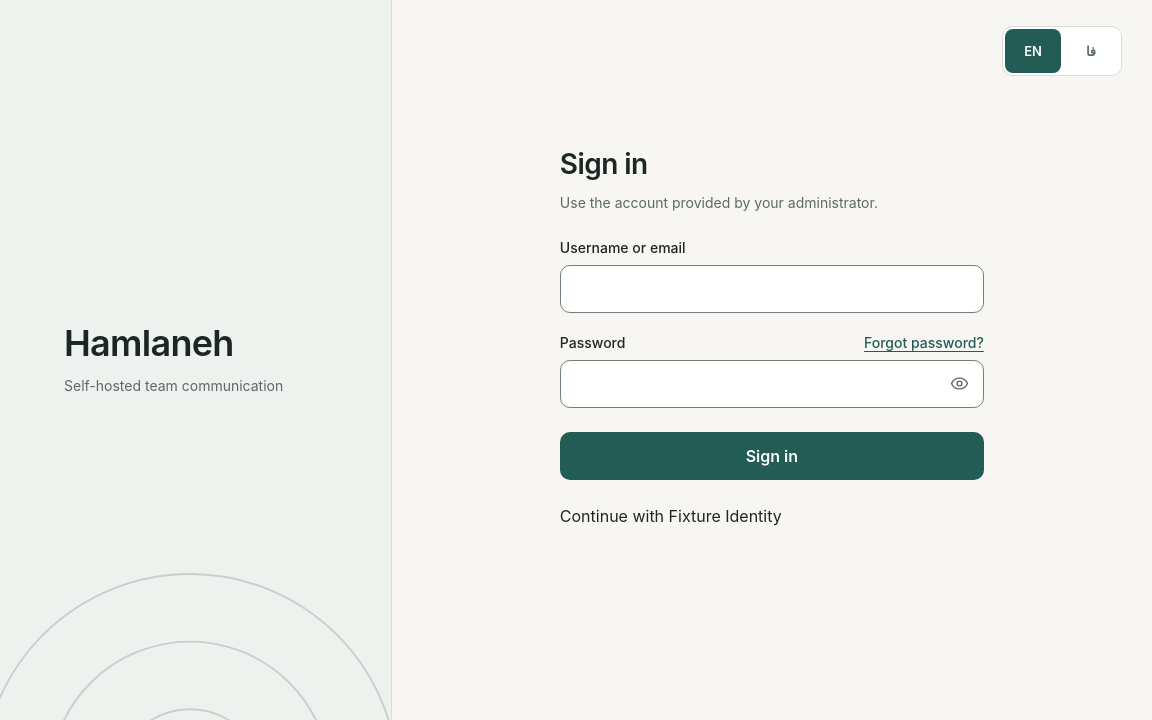
Test: settings panel › opens over the chat as a labelled dialog with a tab list, and Escape closes it
Expected: the heading "Sign in" is shown, [560,147,648,181]
Type "fixture.admin" into the field labelled "Username or email" at point(772, 289), box [560,265,984,313]
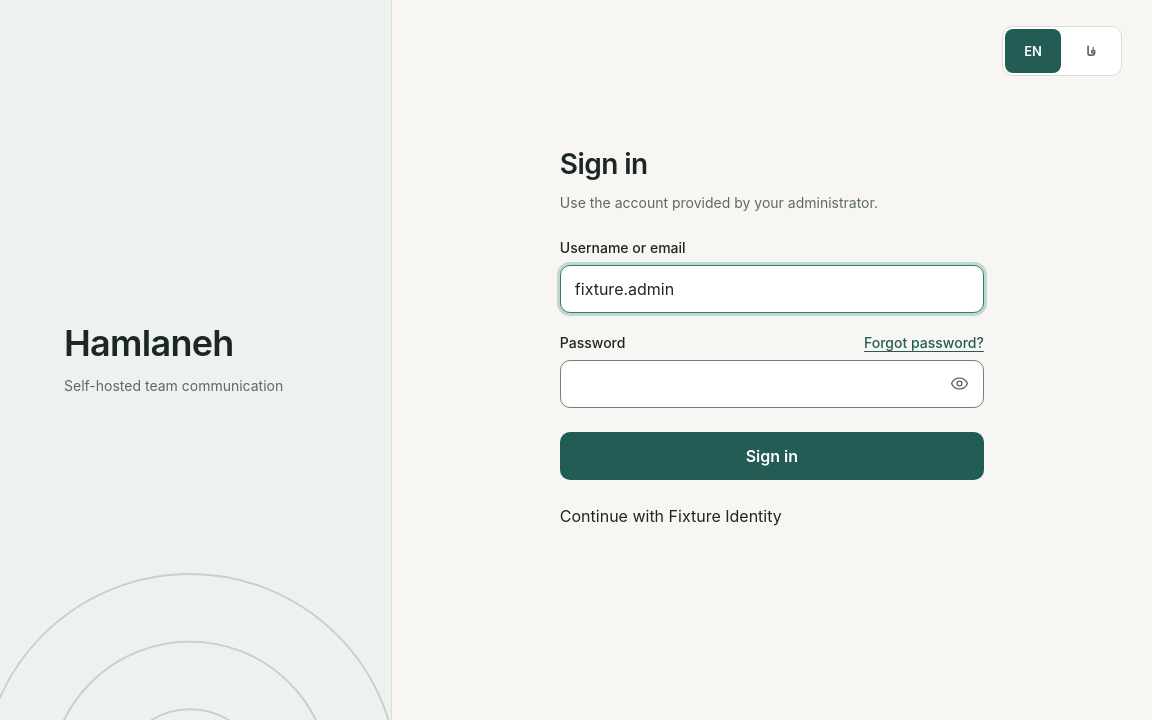
Type "fixture-password-only-for-mocks" into the password field labelled "Password" at point(772, 384), box [560,360,984,408]
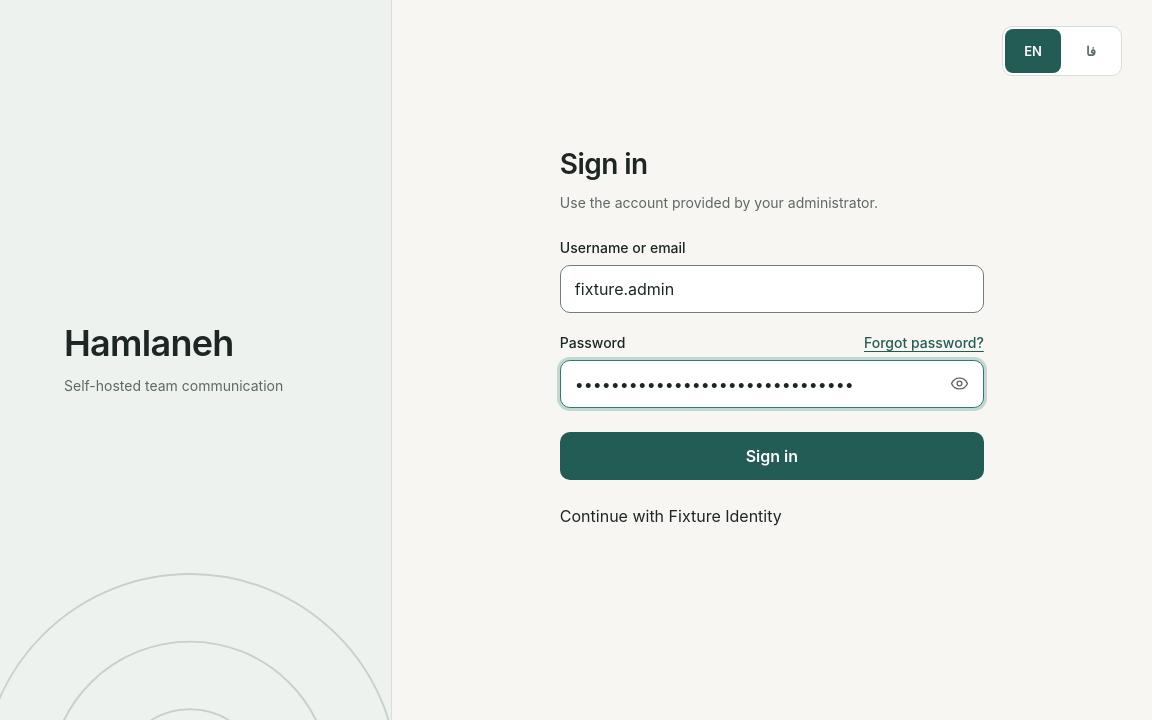
Click the button "Sign in" at point(772, 456), box [560,432,984,480]
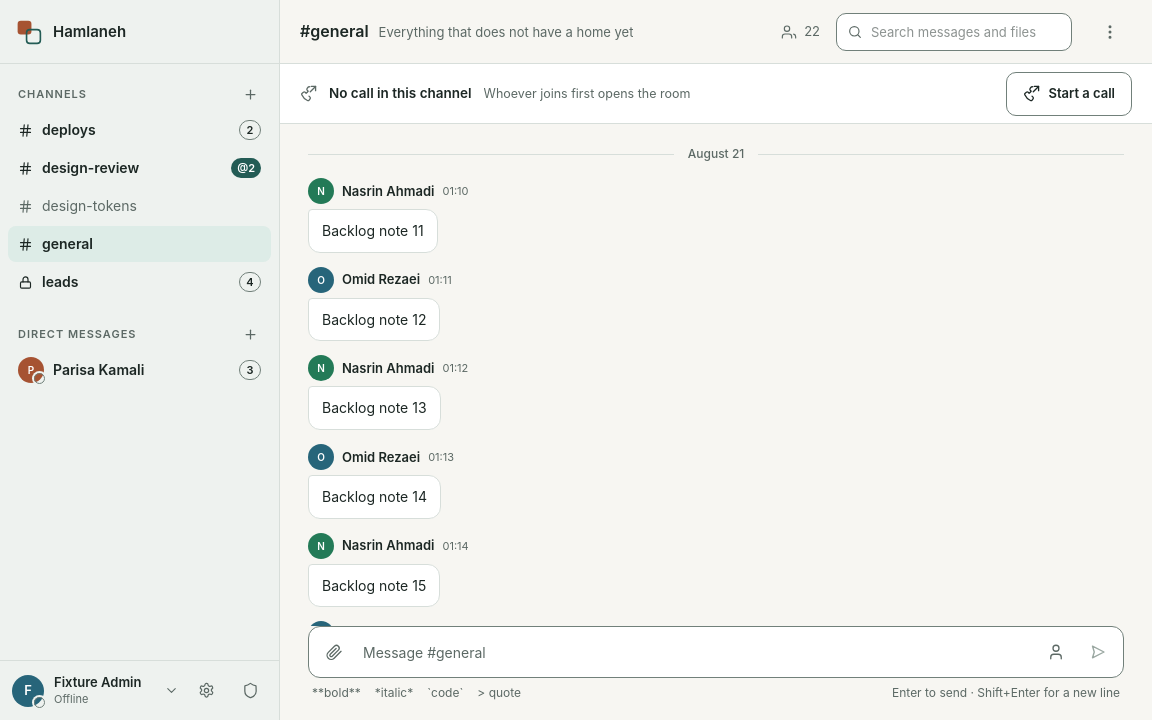
Expected: the navigation bar named "Conversations" is shown, [0,0,280,719]
Click the button named "Settings" at point(206, 690), box [189,674,223,708]
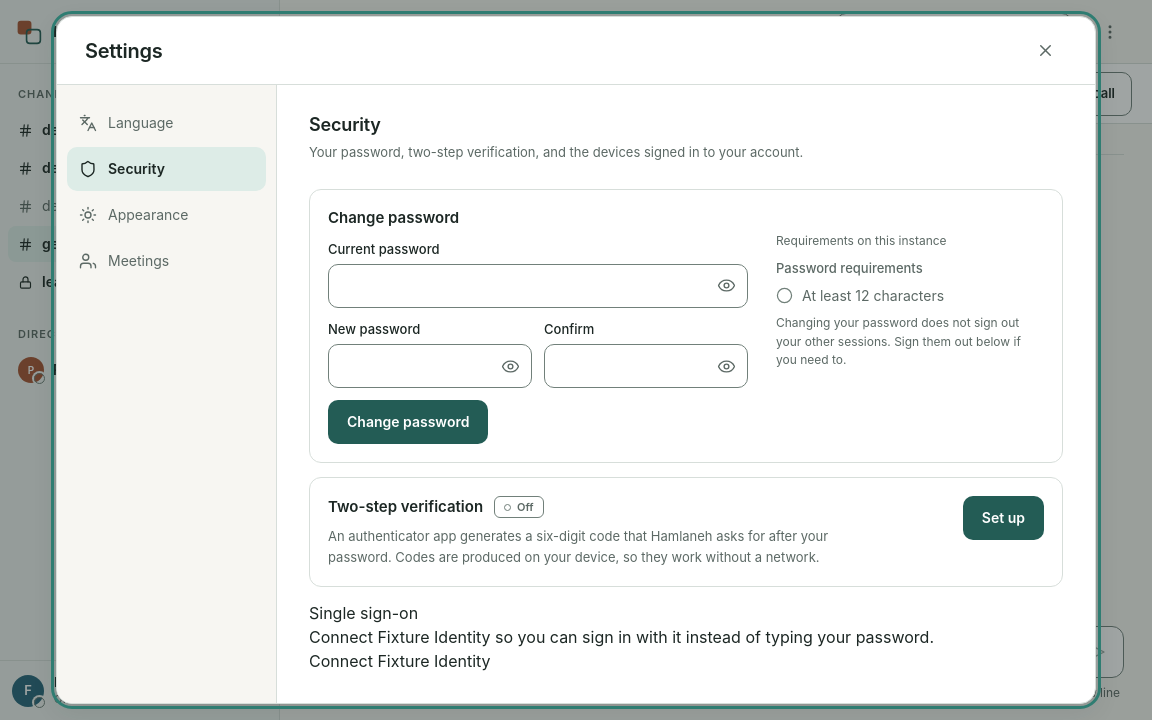
Expected: the tabs read "Language", "Security", "Appearance", "Meetings", in this order, [67,101,266,145]; [67,147,266,191]; [67,193,266,237]; [67,239,266,283]
Press Escape
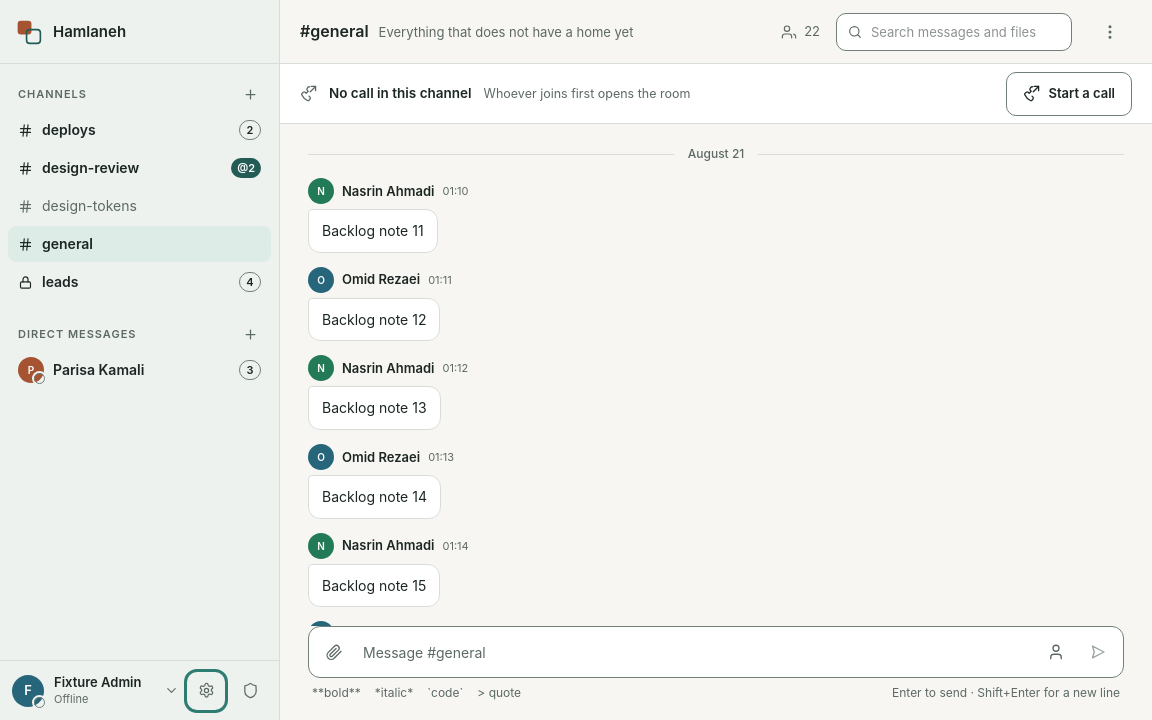
Expected: the heading "Settings" is gone
